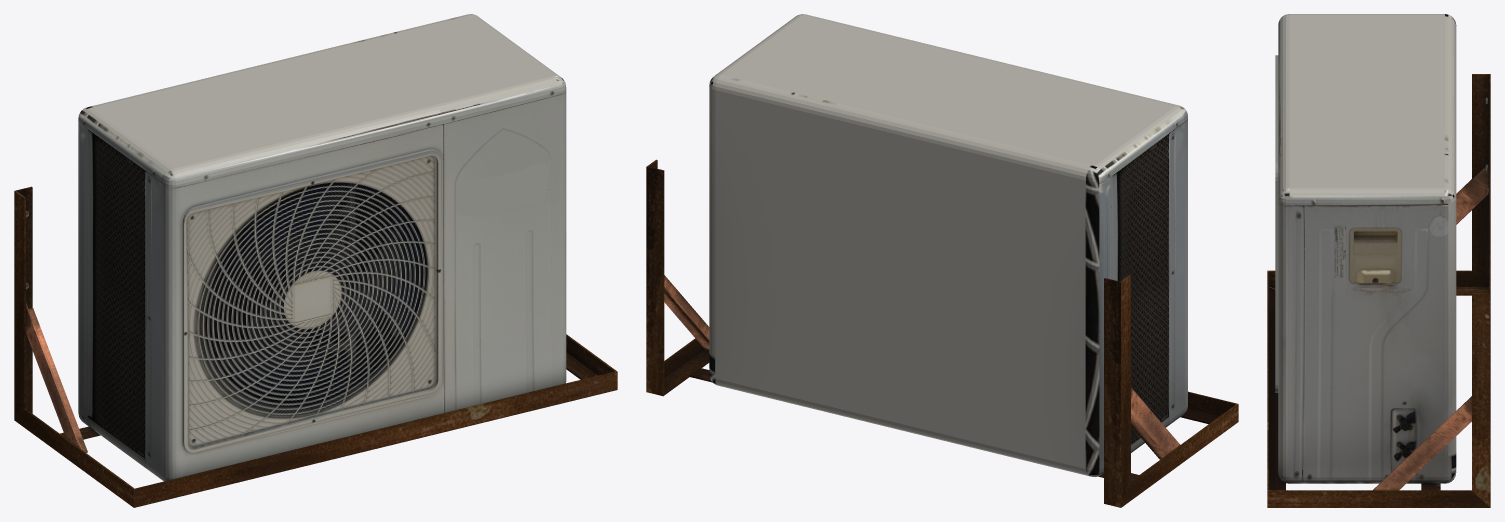
File: uploads_files_4686251_ac.fbx
The picture shows the model from 3 angles, left to right: view 1: azimuth 30°, elevation 25°; view 2: azimuth 150°, elevation 25°; view 3: azimuth 270°, elevation 25°; orthographic projection. The views are drawn at different scales.
Parts seen in each view (by area): view 1: Cube.002; view 2: Cube.002; view 3: Cube.002.
Part boxes in pixels (x1,y1,x2,y2): Cube.002: [14, 14, 617, 507]; Cube.002: [646, 14, 1238, 507]; Cube.002: [1267, 14, 1490, 507].
Bounding box in the file's own units: 1765 × 1108 × 757.
Materials: 1 (1 with a texture image).
